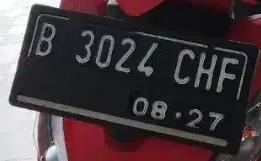0: (91, 28, 119, 72)
2: (110, 32, 142, 77)
3: (71, 25, 102, 66)
4: (131, 34, 166, 81)
B: (33, 20, 61, 59)
C: (170, 43, 199, 88)
F: (211, 52, 242, 98)
H: (191, 48, 224, 93)
